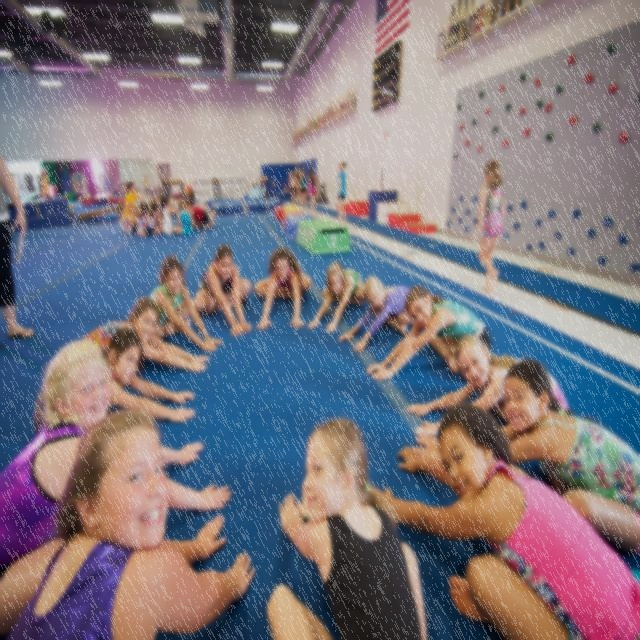pessoa: (371, 403, 640, 640), (0, 408, 257, 640), (0, 339, 232, 574), (412, 358, 640, 556), (266, 413, 434, 640), (404, 332, 570, 439), (34, 327, 196, 435), (365, 284, 493, 382), (80, 296, 211, 373), (0, 114, 37, 350), (148, 254, 224, 354), (338, 275, 416, 353), (192, 242, 253, 338), (253, 246, 312, 332), (471, 157, 506, 294), (307, 258, 367, 332), (124, 180, 158, 226), (184, 198, 214, 230), (170, 198, 194, 235), (116, 200, 140, 235), (336, 161, 348, 226), (160, 194, 178, 237), (306, 165, 319, 218), (187, 190, 212, 216), (297, 166, 309, 216), (137, 203, 150, 234), (147, 201, 159, 229), (289, 170, 297, 208), (294, 164, 302, 198), (41, 170, 50, 200), (282, 171, 292, 193), (143, 176, 150, 196), (140, 200, 146, 214)
